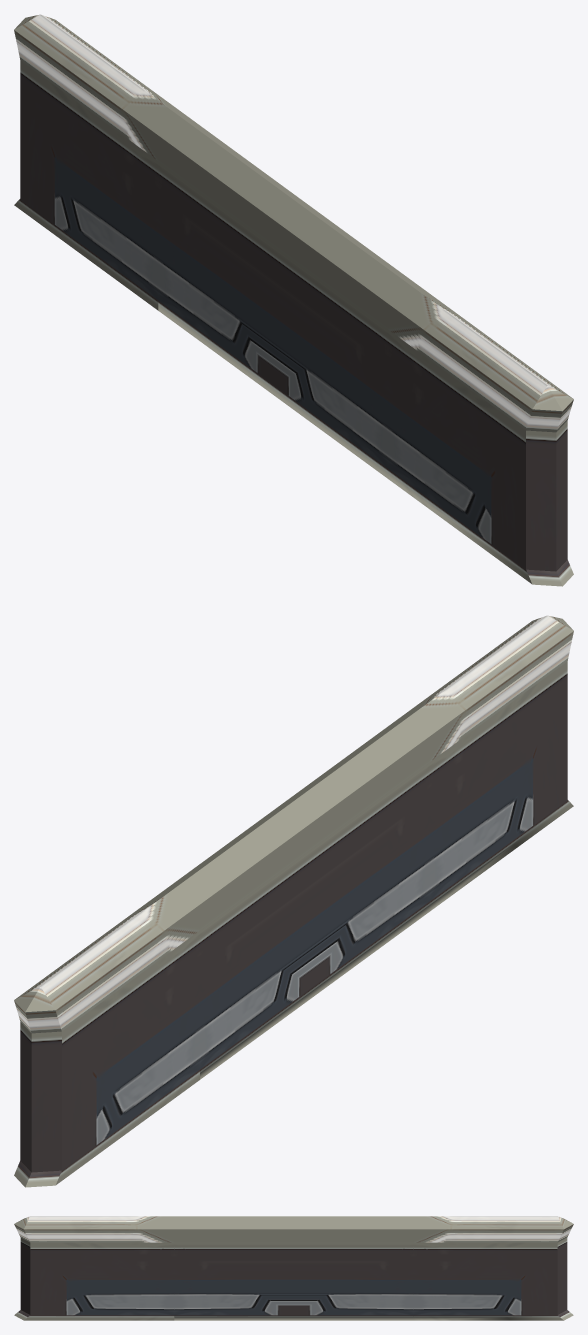
File: KF_SM_XBuilding018.fbx
The picture shows the model from 3 angles, top to bottom: view 1: azimuth 30°, elevation 25°; view 2: azimuth 150°, elevation 25°; view 3: azimuth 270°, elevation 25°; orthographic projection. The views are drawn at different scales.
Visible parts, largest first — view 1: KF_SM_XBuilding018; view 2: KF_SM_XBuilding018; view 3: KF_SM_XBuilding018.
Part boxes in pixels (x1,y1,x2,y2): KF_SM_XBuilding018: (14, 14, 573, 586); KF_SM_XBuilding018: (14, 615, 573, 1187); KF_SM_XBuilding018: (14, 1216, 573, 1320).
Size of the model in its own units: 365 by 1594 by 8181.
